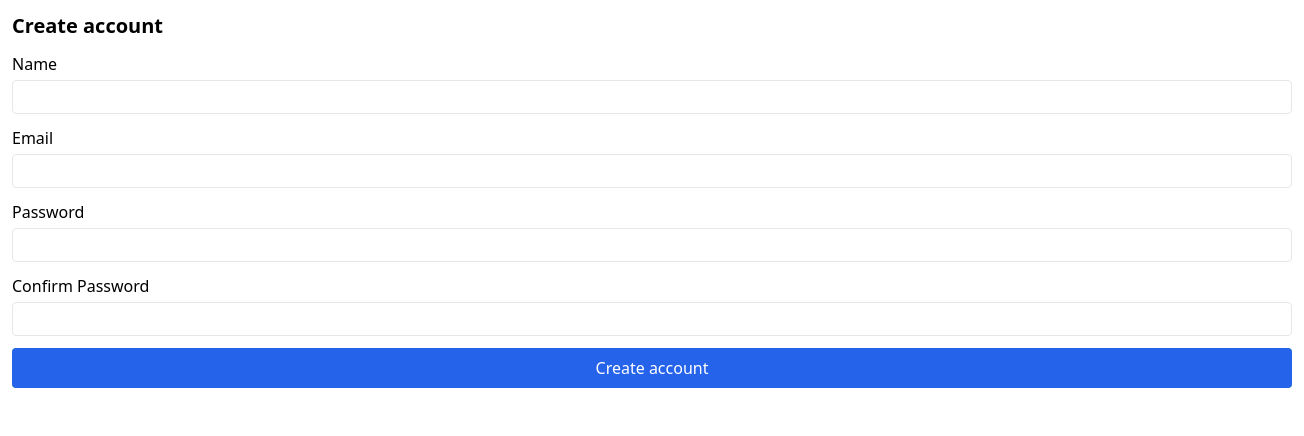
shows error when registration fails
Type "Bob" into the field labelled "Name" at [652, 97], box top-left (12, 80), bottom-right (1292, 114)
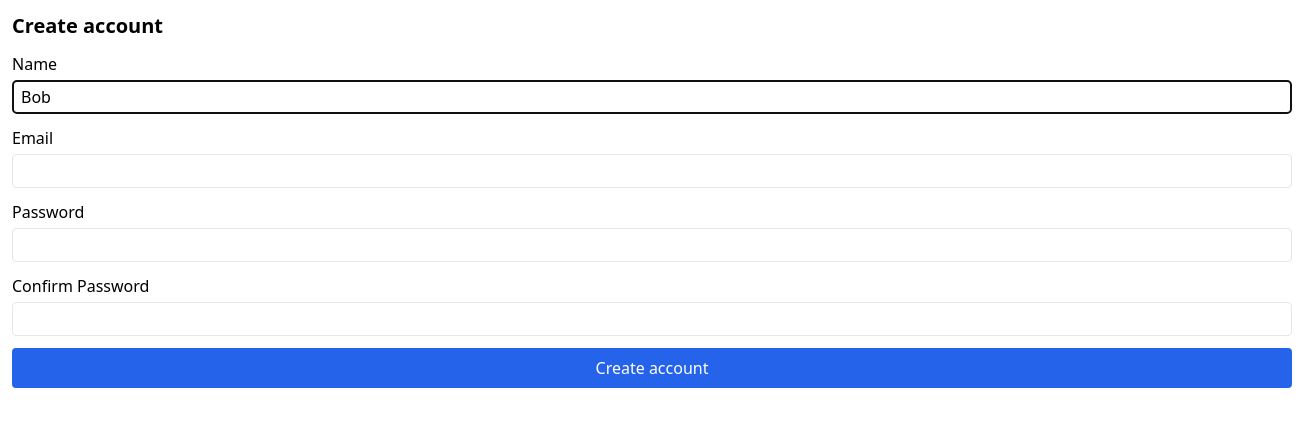
Type "existing@example.com" into the field labelled "Email" at [652, 171], box top-left (12, 154), bottom-right (1292, 188)
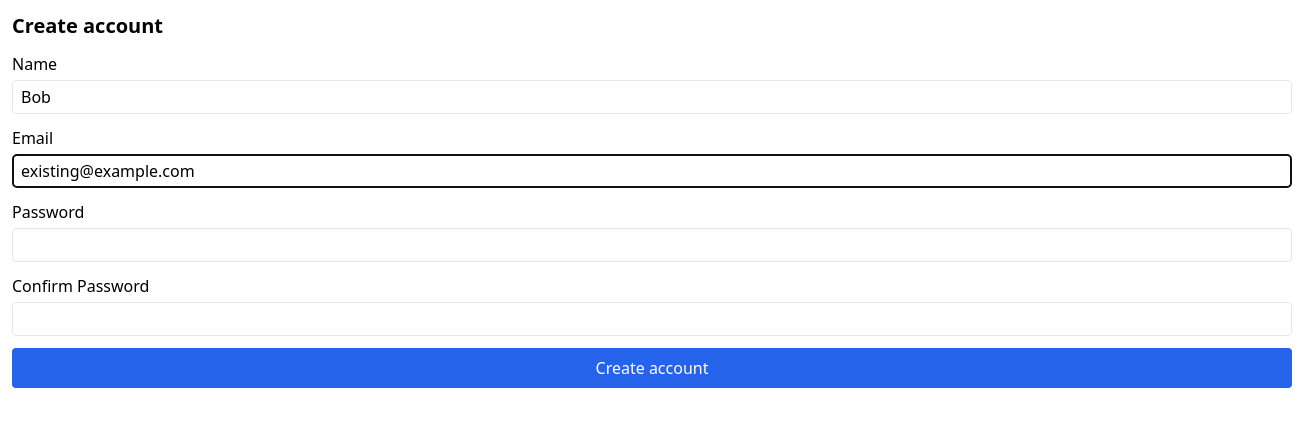
Type "secret-pass-123" into the password field labelled "Password" at [652, 245], box top-left (12, 228), bottom-right (1292, 262)
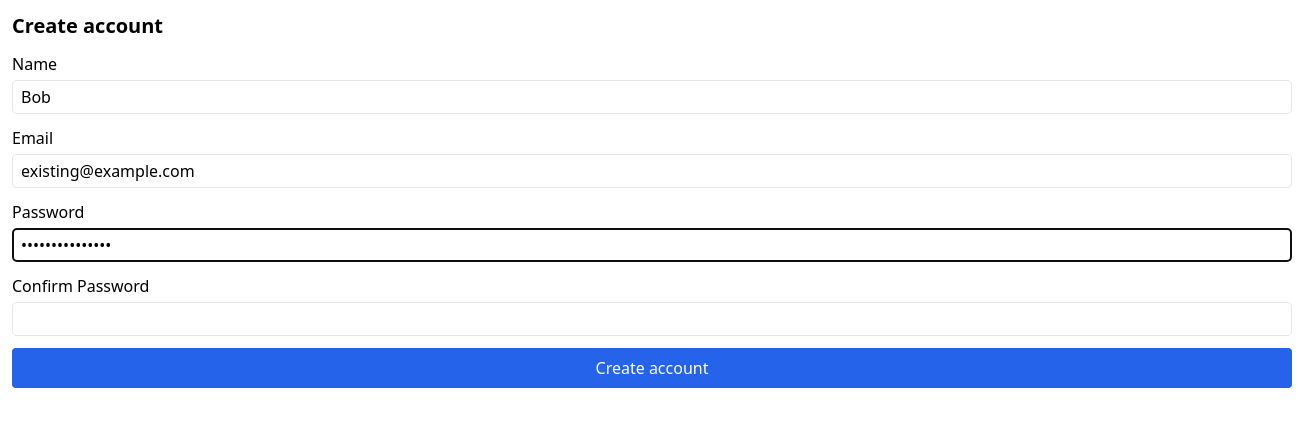
Type "secret-pass-123" into the password field labelled "Confirm Password" at [652, 319], box top-left (12, 302), bottom-right (1292, 336)
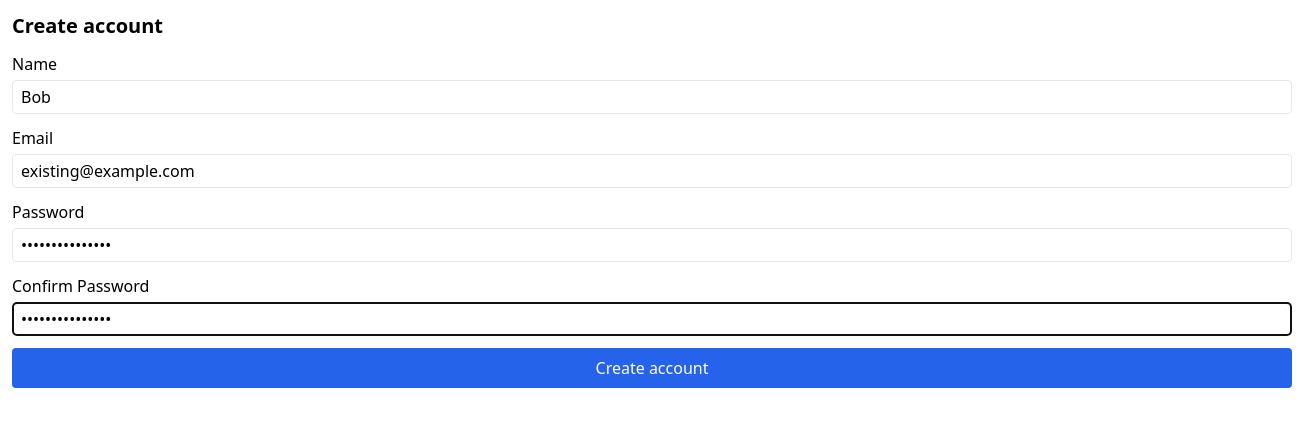
Click the button "Create account" at [652, 368], box top-left (12, 348), bottom-right (1292, 388)
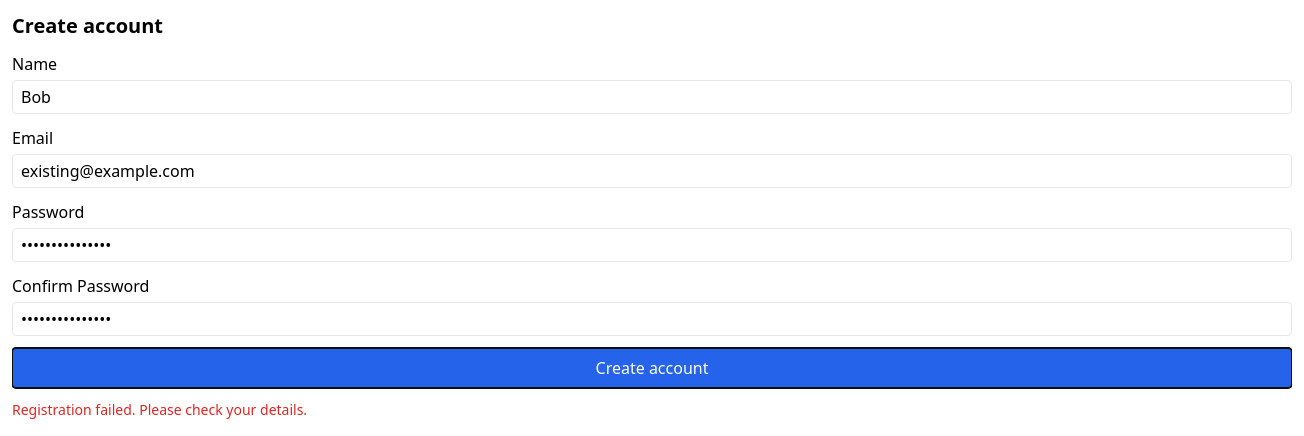
Expected: the message "Registration failed. Please check your details." is shown, top-left (12, 400), bottom-right (307, 419)
